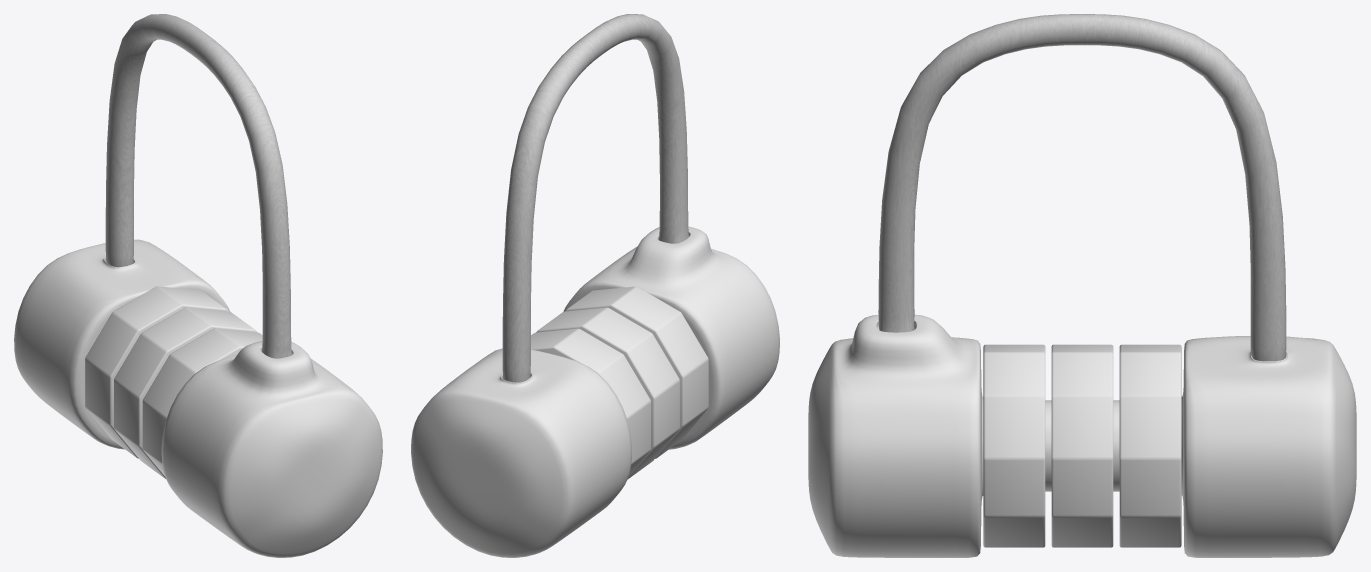
The model's file is ComboLock.fbx.
3 views of the same model, side by side, from view 1: azimuth 30°, elevation 25°; view 2: azimuth 150°, elevation 25°; view 3: azimuth 270°, elevation 25° (orthographic). The views are drawn at different scales.
Visible parts, largest first — view 1: Combo, Combo3, Combo2, Combo1; view 2: Combo, Combo1, Combo2, Combo3; view 3: Combo, Combo1, Combo3, Combo2.
Boxes of the visible parts, x1,y1,x2,y2 form: Combo: (14,14,382,557); Combo3: (85,286,228,458); Combo2: (114,307,256,478); Combo1: (142,328,262,475); Combo: (411,14,779,557); Combo1: (565,286,708,458); Combo2: (536,307,679,479); Combo3: (531,328,651,476); Combo: (808,14,1356,557); Combo1: (983,344,1045,547); Combo3: (1119,344,1181,547); Combo2: (1051,344,1113,547).
Size of the model in its own units: 217 by 566 by 528.
Materials: 3 (1 with a texture image).
